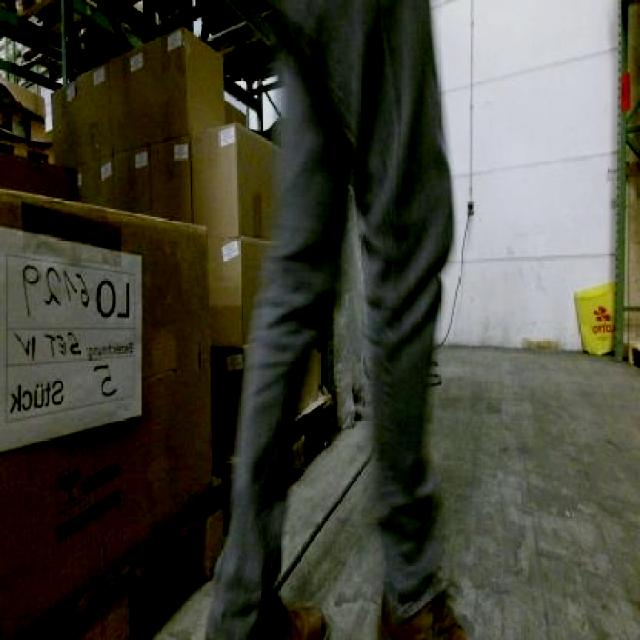pallets: (0, 26, 274, 637), (0, 188, 209, 637), (0, 85, 40, 137)
